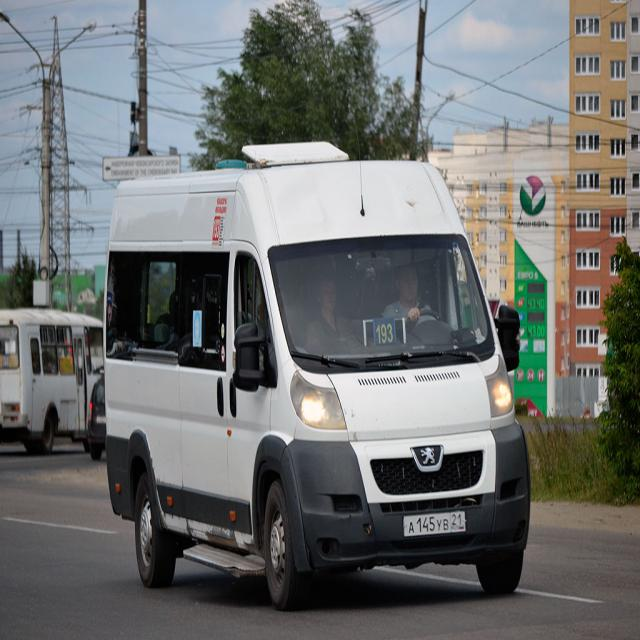number-of-bus: (371, 320, 406, 350)
